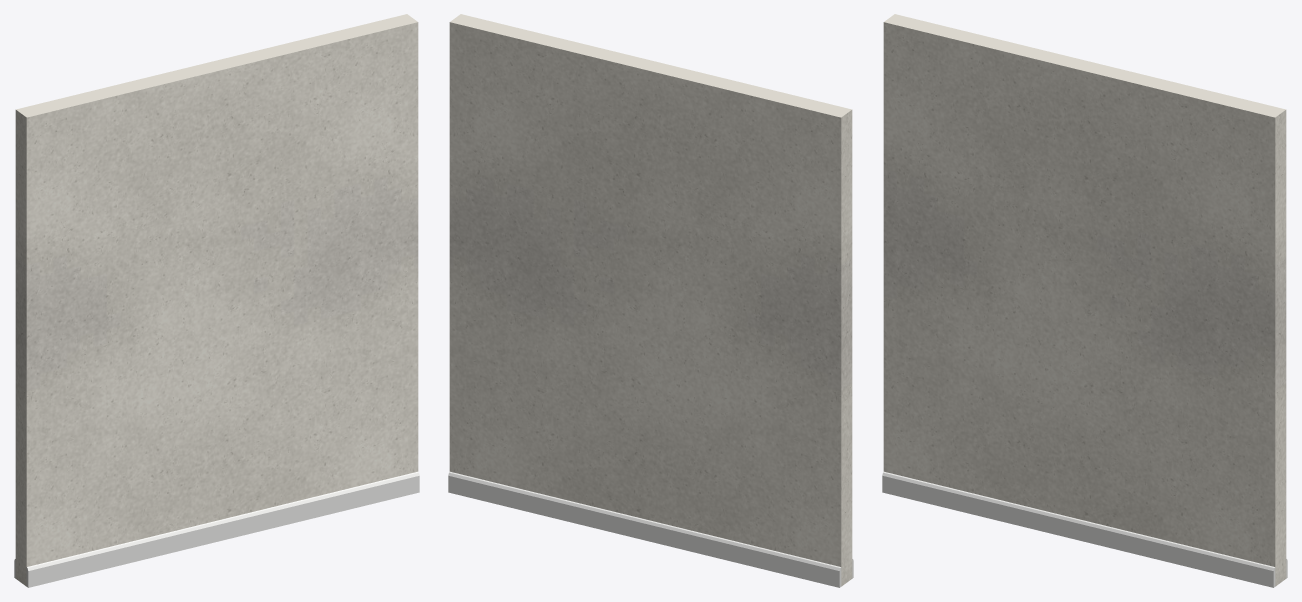
The model's file is rw_util.glb.
3 views of the same model, side by side, from view 1: azimuth 30°, elevation 25°; view 2: azimuth 150°, elevation 25°; view 3: azimuth 330°, elevation 25° (orthographic).
Visible parts, largest first — view 1: rw_util_plaster, rw_util_trim; view 2: rw_util_plaster, rw_util_trim; view 3: rw_util_plaster, rw_util_trim.
Boxes of the visible parts, <box> form: rw_util_plaster: <box>15,14,418,586</box>; rw_util_trim: <box>14,471,419,587</box>; rw_util_plaster: <box>449,14,852,586</box>; rw_util_trim: <box>448,471,853,587</box>; rw_util_plaster: <box>883,14,1286,586</box>; rw_util_trim: <box>882,471,1287,587</box>.
Size of the model in its own units: 2.44 by 2.8 by 0.152.
2 materials, 1 textured.
